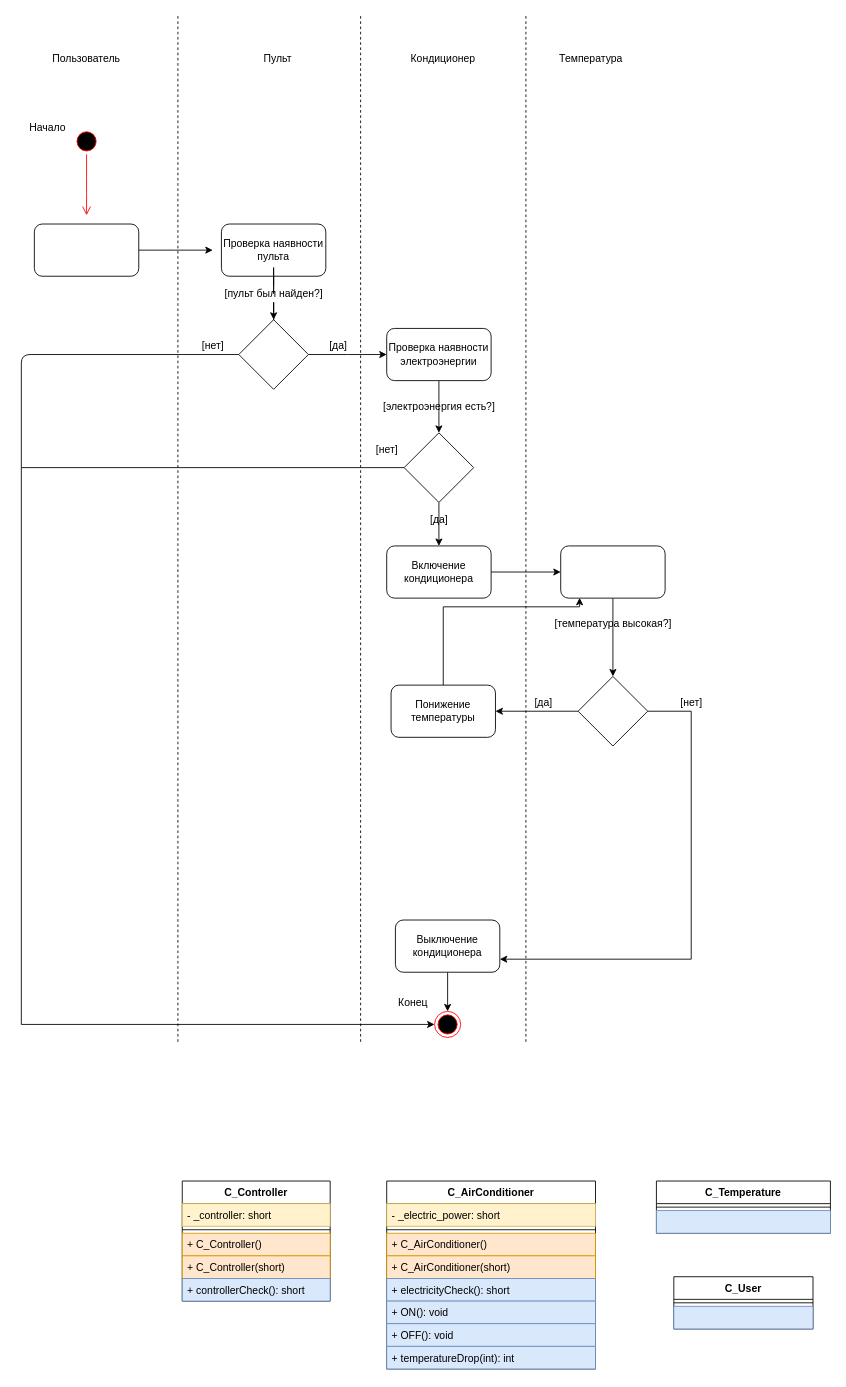
Some shapes in this 846 by 1387 pixel diagram are drawn without their labels. The shapes that lost their labels are listed below. From the top down, each one's centre as x and y in pixels, then its label:
At point 86,249: "Поиск пульта".
At point 612,571: "Проверка температуры".
At point 743,1221: "+ temperatureCheck(int, int): int".
At point 743,1317: "+ search(): void".
